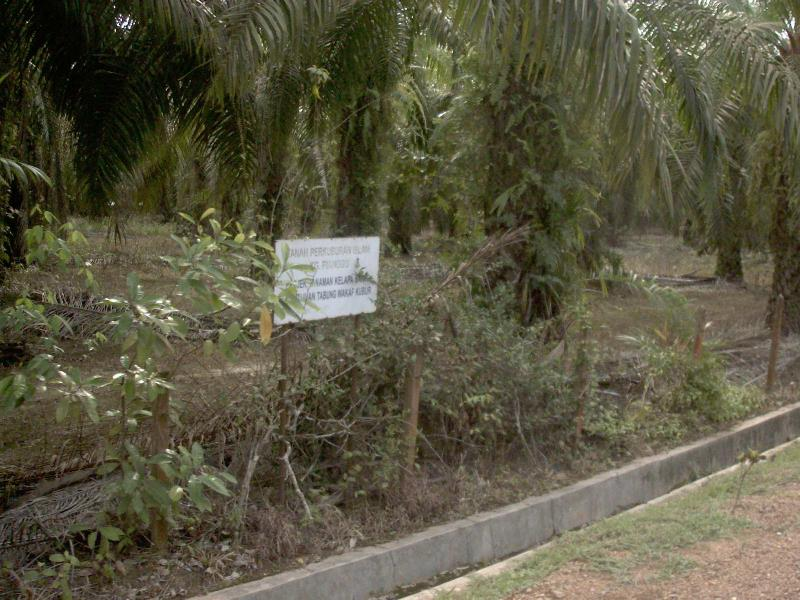ads_sign: (263, 224, 390, 334)
